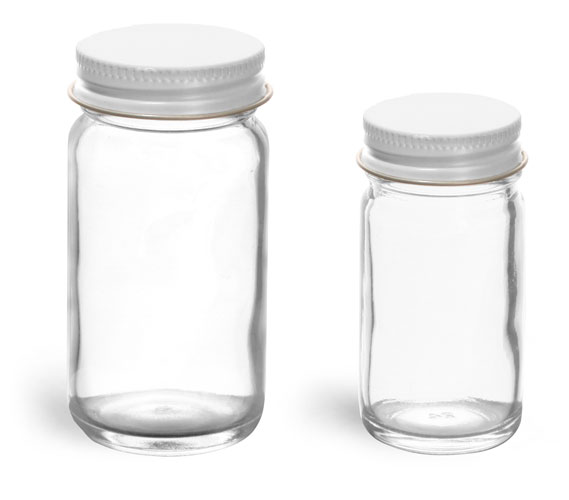glass_bottle: (62, 21, 277, 453), (350, 88, 529, 462)
